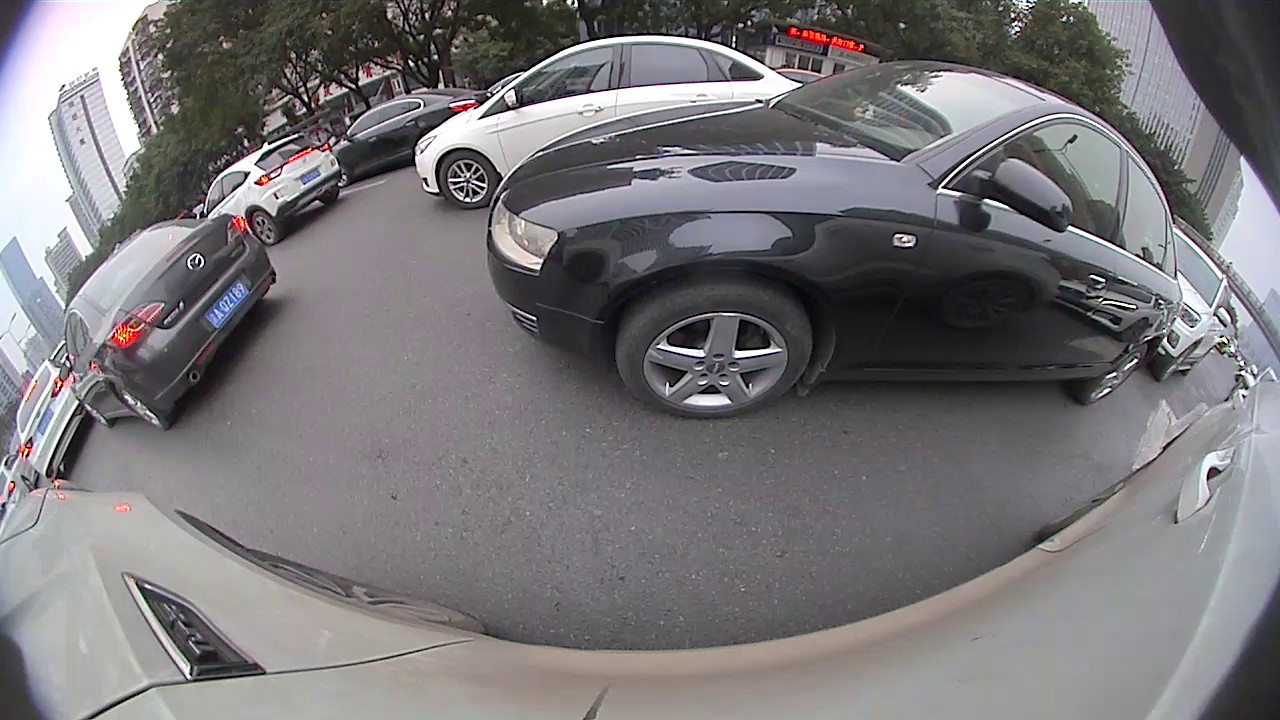car: (486, 56, 1185, 421), (411, 36, 804, 209), (62, 216, 277, 436), (196, 128, 345, 244), (328, 85, 488, 185), (1150, 222, 1235, 384), (13, 358, 89, 482), (0, 453, 38, 512)
front: (613, 284, 815, 418), (438, 150, 494, 207), (1154, 348, 1195, 382), (77, 399, 112, 430)
rear: (1078, 345, 1148, 405), (116, 389, 167, 429), (248, 214, 277, 246)
